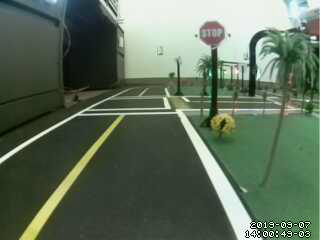Stop_Sign: (197, 17, 231, 51)
